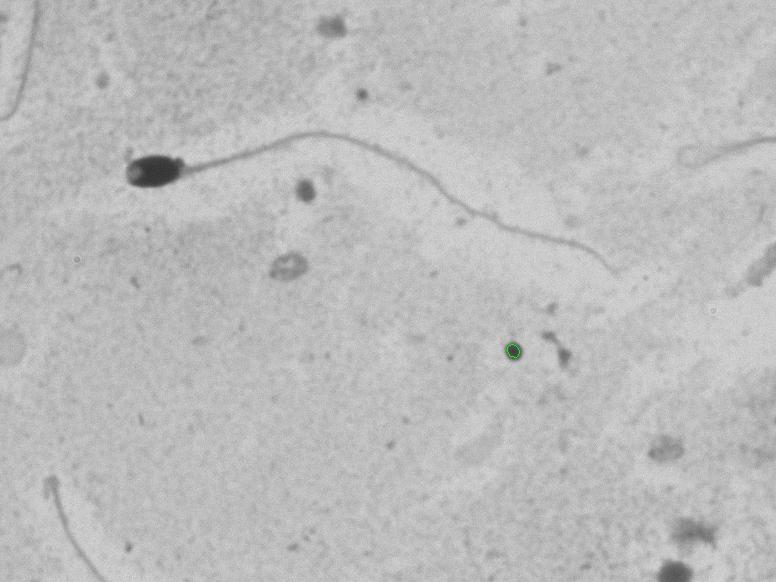Abnormal: (93, 83, 640, 297)
